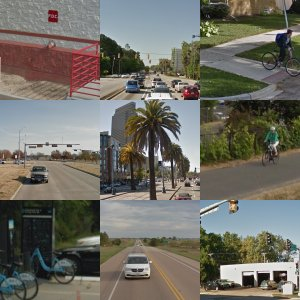汽車: (132, 221, 167, 253), (33, 238, 66, 258), (209, 234, 231, 254)
紅綠燈: (115, 52, 138, 73)
高山或山丘: (201, 30, 300, 73)
